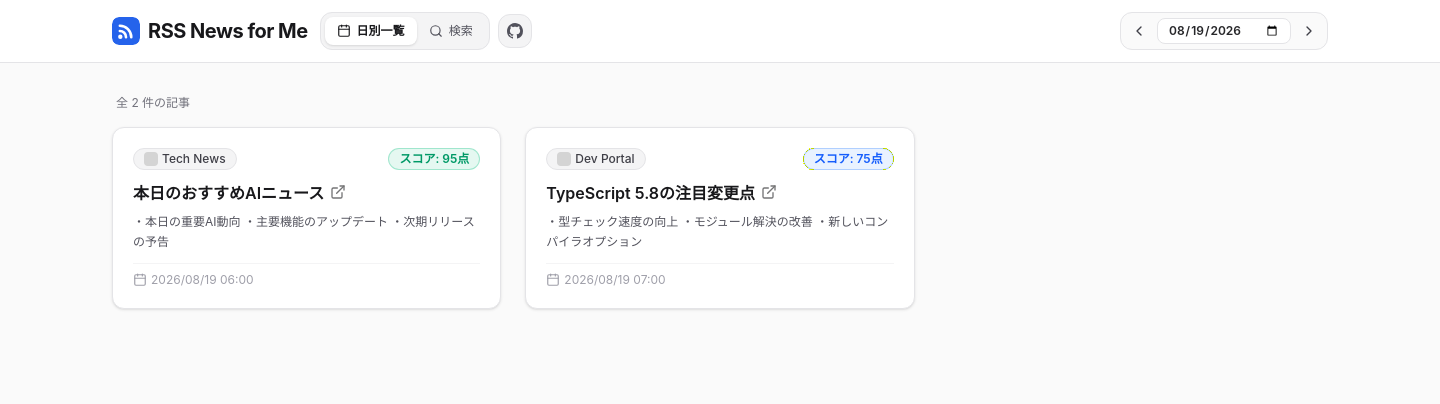
Test: フロントエンド App コンポーネントのテスト › セマンティック検索画面 › 検索前の空状態はキーワード入力を促す短い文言のみであること
expect the text "本日のおすすめAIニュース" is shown: met, box [133,182,324,204]
Click the button with aria-label "セマンティック検索": (451, 31) [417,17,485,45]
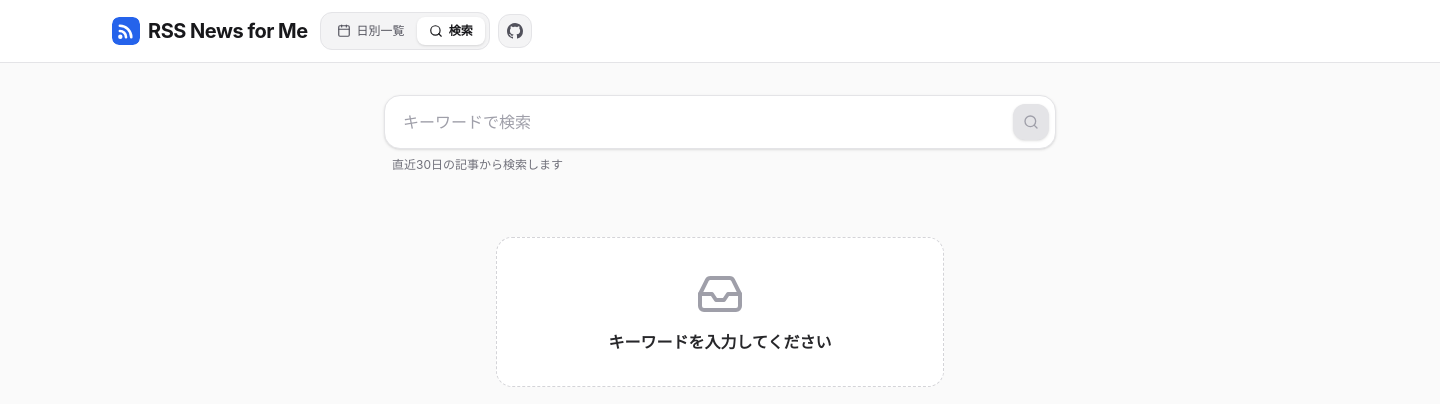
expect the heading "キーワードを入力してください" is shown: met, box [608,332,832,352]
